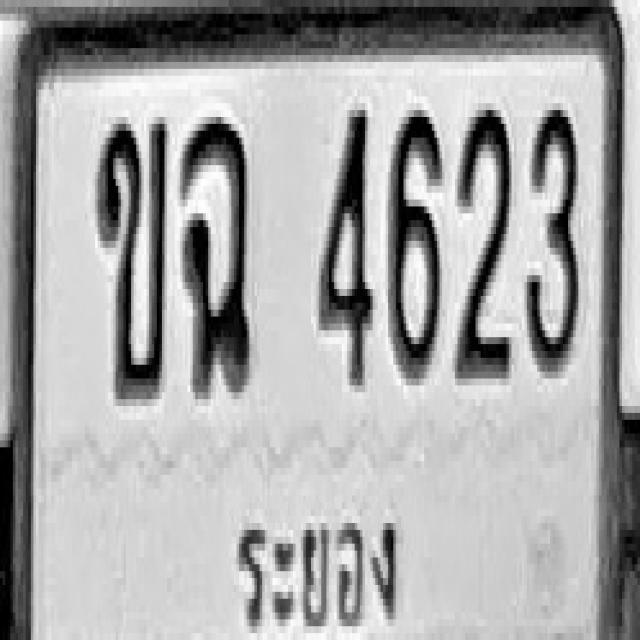11KhorKhai: (95, 117, 167, 399)
18ChorChing: (181, 114, 251, 396)
2: (455, 103, 511, 379)
3: (524, 103, 578, 372)
4: (318, 104, 372, 386)
6: (389, 103, 441, 379)
Rayong: (232, 480, 400, 633)
